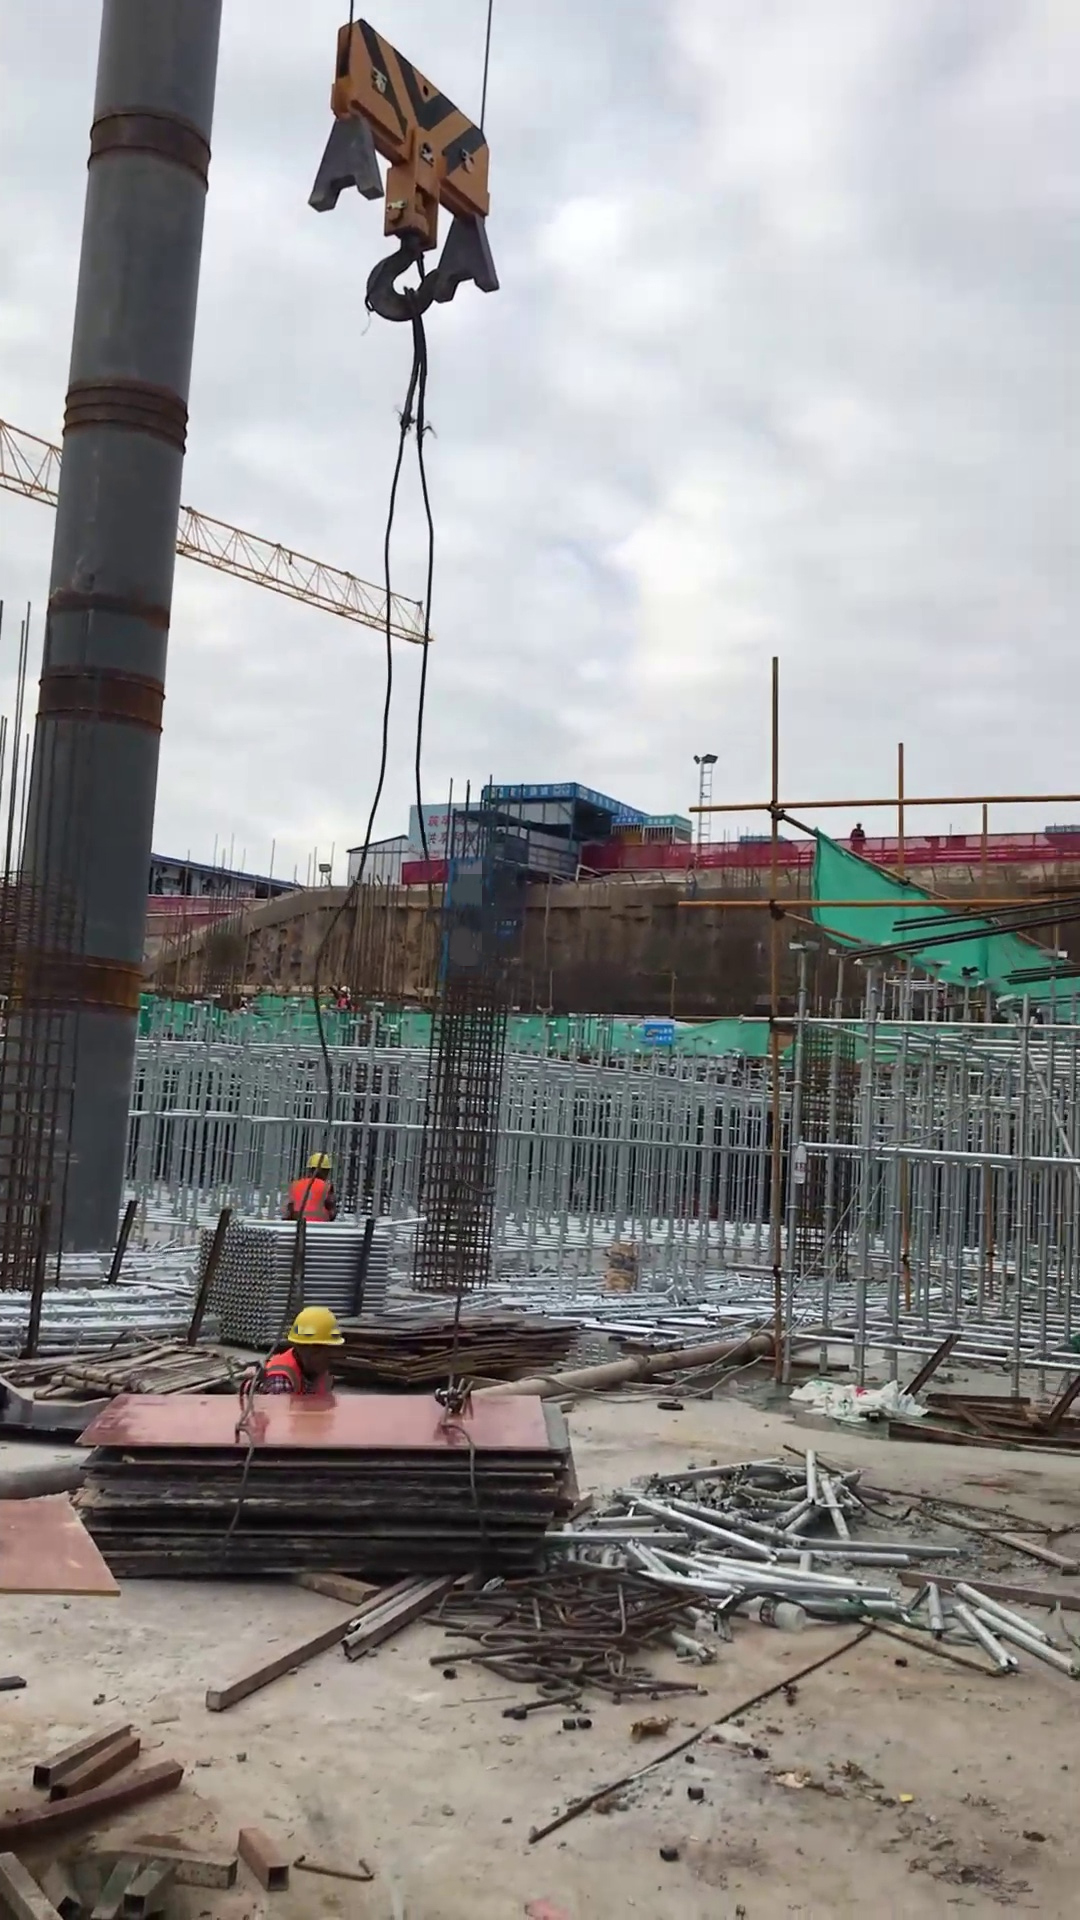board: (52, 1377, 604, 1594), (335, 1287, 587, 1406)
fence: (626, 813, 1061, 889)
helmet: (280, 1299, 350, 1351), (303, 1150, 335, 1182)
hook: (299, 15, 506, 332)
person: (240, 1300, 362, 1415), (272, 1142, 350, 1233)
scaffold: (197, 1206, 411, 1356)
vest: (254, 1349, 340, 1401), (283, 1176, 339, 1225)
